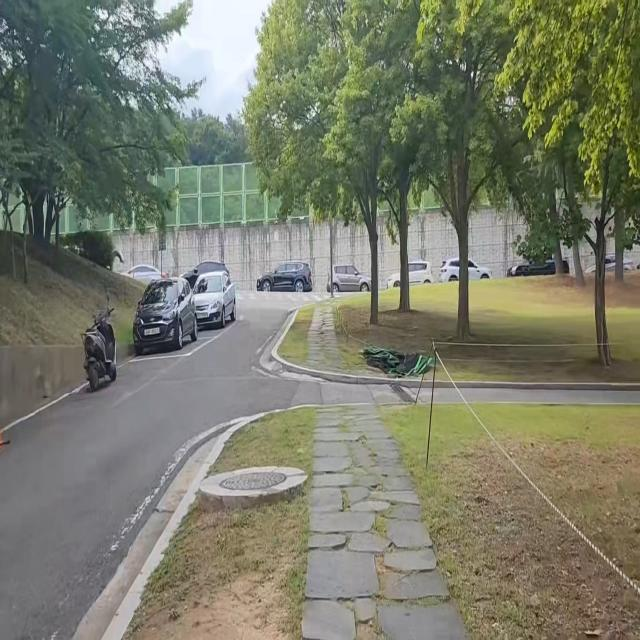obstacle: (131, 267, 248, 364), (77, 284, 125, 404)
road: (0, 304, 301, 640)
sidewalk: (302, 403, 477, 640), (311, 301, 348, 372)
